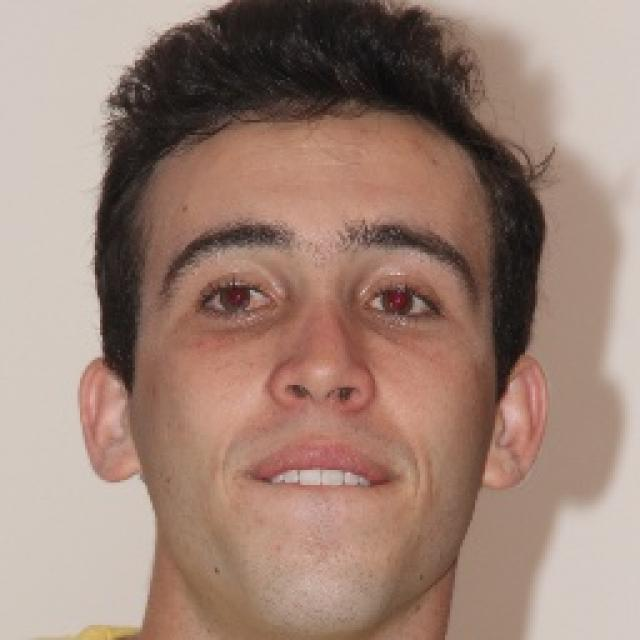earlobe: (480, 441, 517, 492), (96, 438, 137, 484)
eye: (199, 278, 275, 317), (364, 287, 441, 323)
nose: (274, 394, 366, 436)
wholeear: (479, 353, 549, 492), (78, 355, 138, 484)
